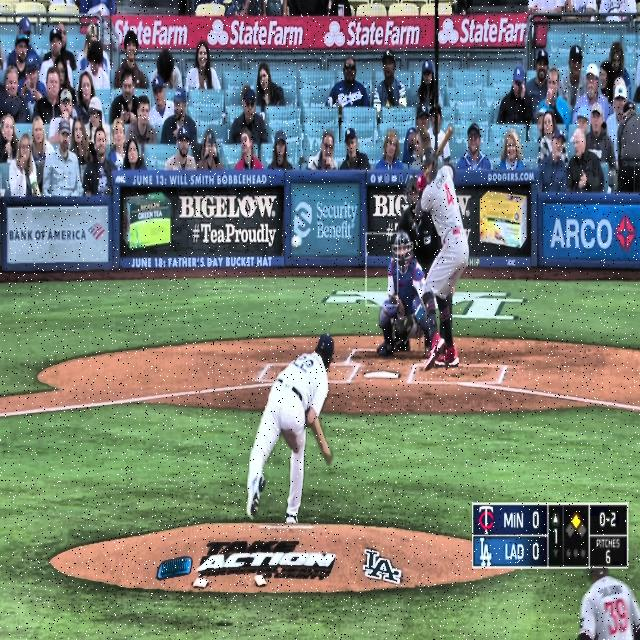baseball: (291, 234, 303, 250)
